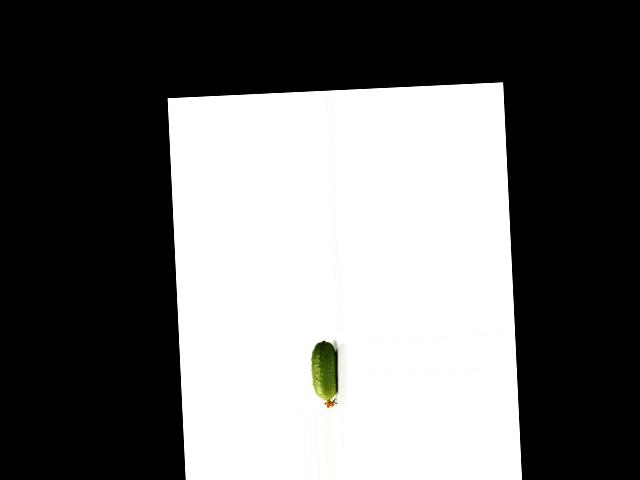cucumber: (310, 339, 339, 407)
